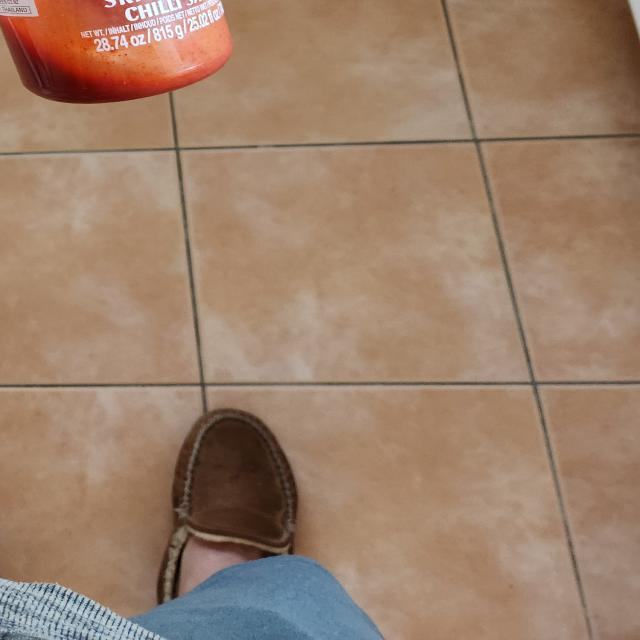sriracha: (0, 0, 238, 104)
